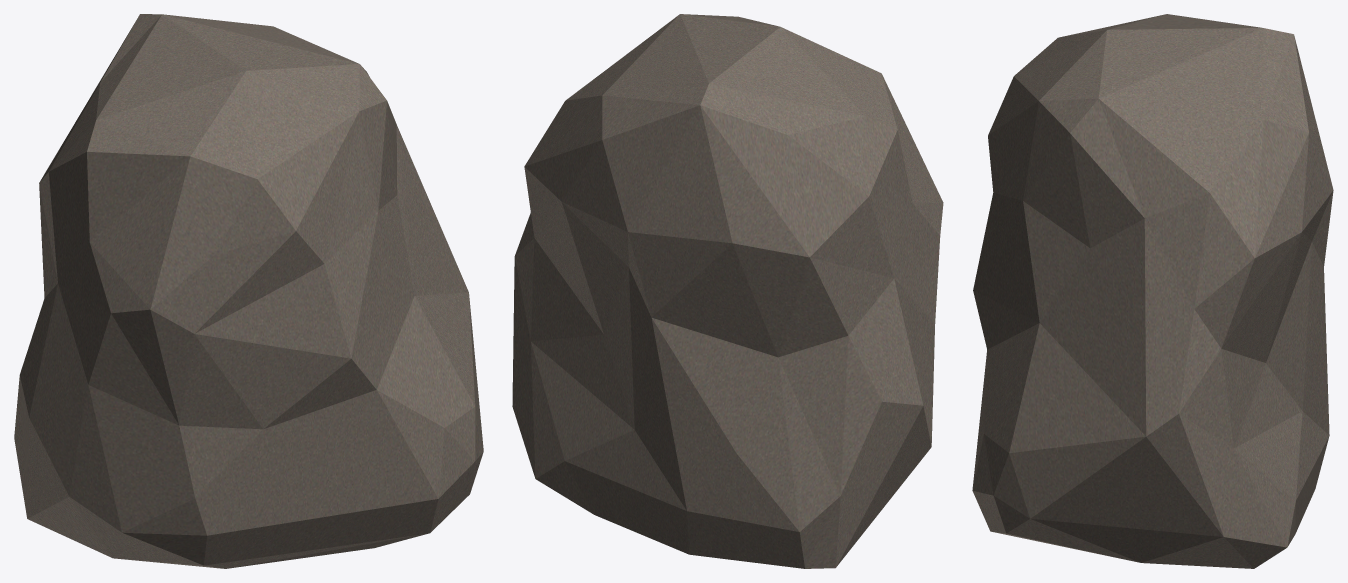
The model's file is rock1.005.obj.
The picture shows the model from 3 angles, left to right: view 1: azimuth 30°, elevation 25°; view 2: azimuth 150°, elevation 25°; view 3: azimuth 270°, elevation 25°; orthographic projection. The views are drawn at different scales.
Visible parts, largest first — view 1: rock1.005_Cube.027; view 2: rock1.005_Cube.027; view 3: rock1.005_Cube.027.
Boxes of the visible parts, bbox=[...] form: rock1.005_Cube.027: bbox=[14, 14, 483, 568]; rock1.005_Cube.027: bbox=[512, 14, 943, 568]; rock1.005_Cube.027: bbox=[972, 14, 1333, 568].
Bounding box in the file's own units: 550 × 596 × 411.
